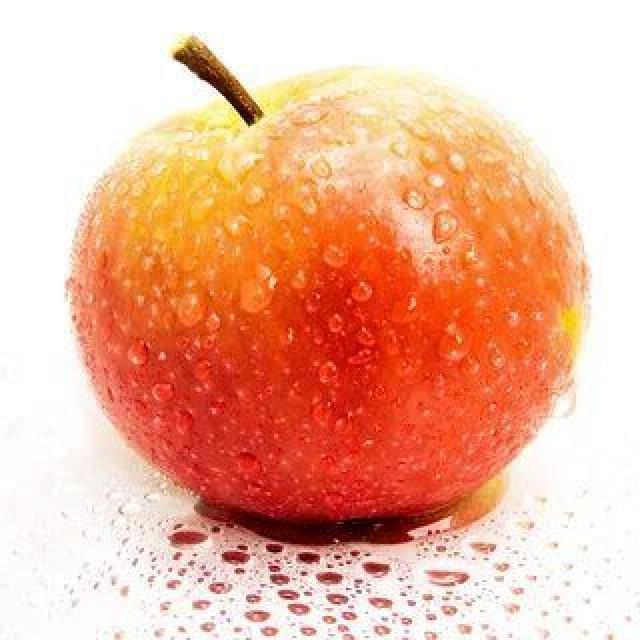Fresh Apple: (80, 72, 577, 548)
